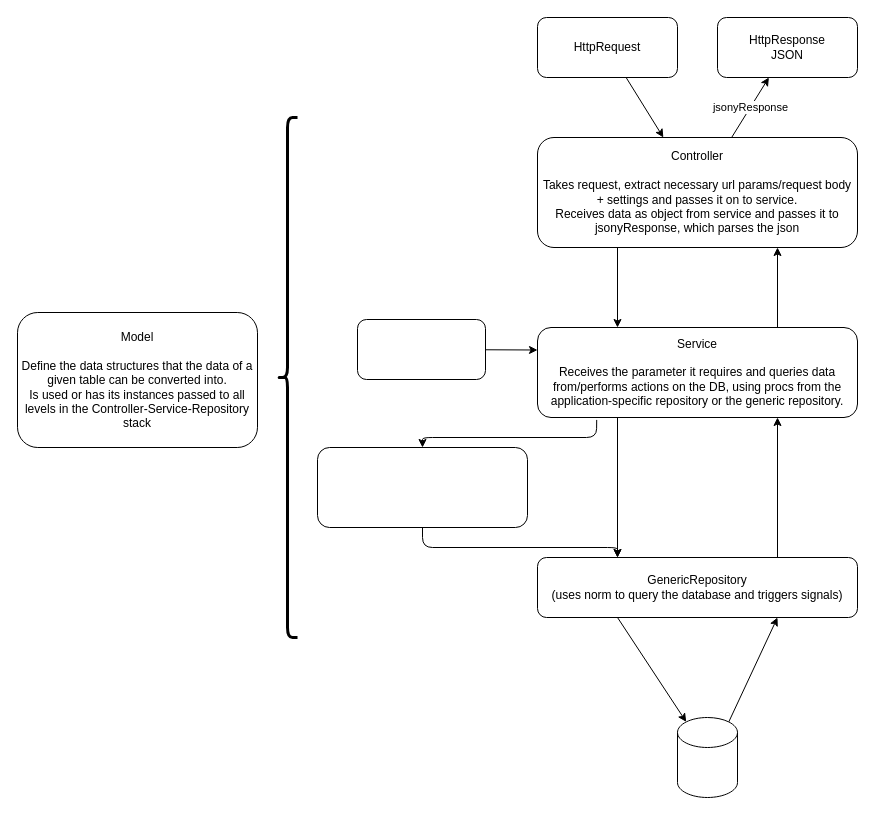
Some shapes in this 875 by 815 pixel diagram are drawn without their labels. The shapes that lost their labels are listed below. From the top down, each one's centre as x and y in pixels, then its label:
[421,349]: Utils (optional) Helper functions for dealing with models
[422,487]: Repository (For more compplicated queries using the generic repository as base)
[707,757]: SQLite
